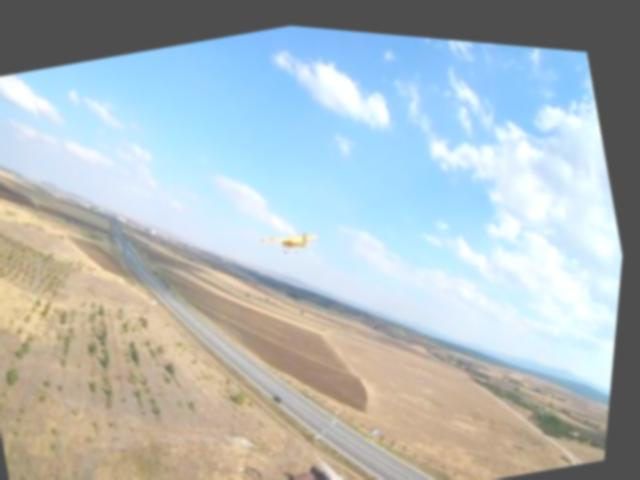uav: (262, 215, 326, 258)
